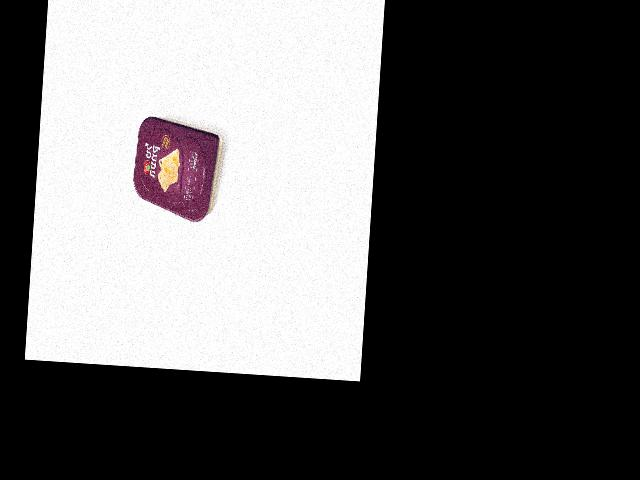cheese: (129, 115, 226, 223)
